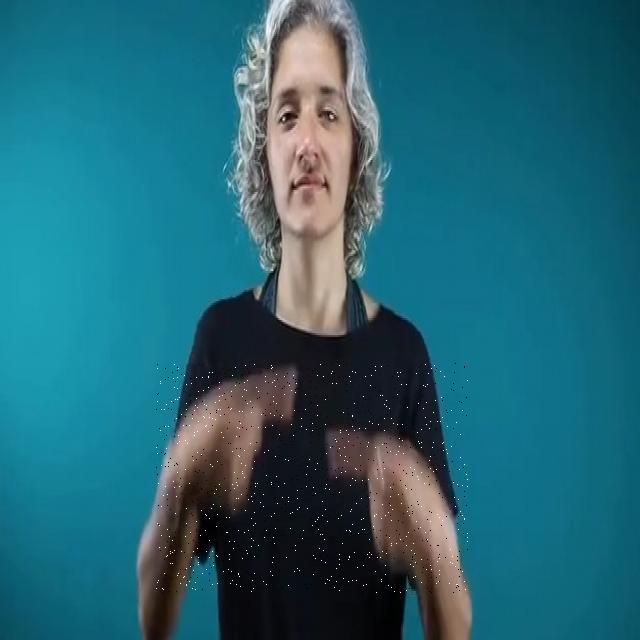allergy: (156, 364, 468, 594)
